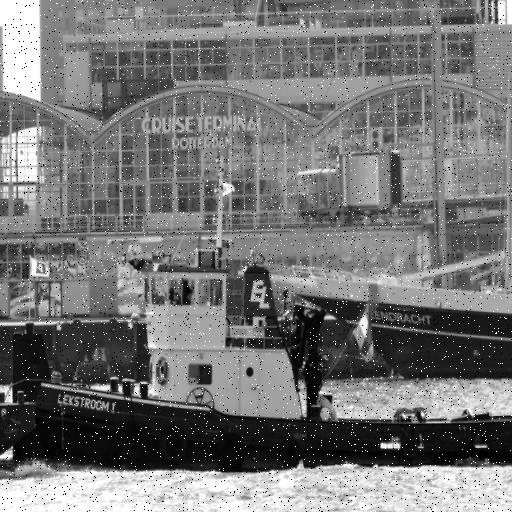tugboat: (34, 234, 512, 479)
